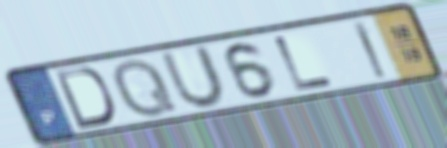6: (222, 40, 279, 100)
D: (52, 65, 118, 131)
I: (350, 19, 390, 81)
L: (270, 33, 337, 93)
Q: (110, 56, 181, 120)
U: (158, 43, 229, 111)
